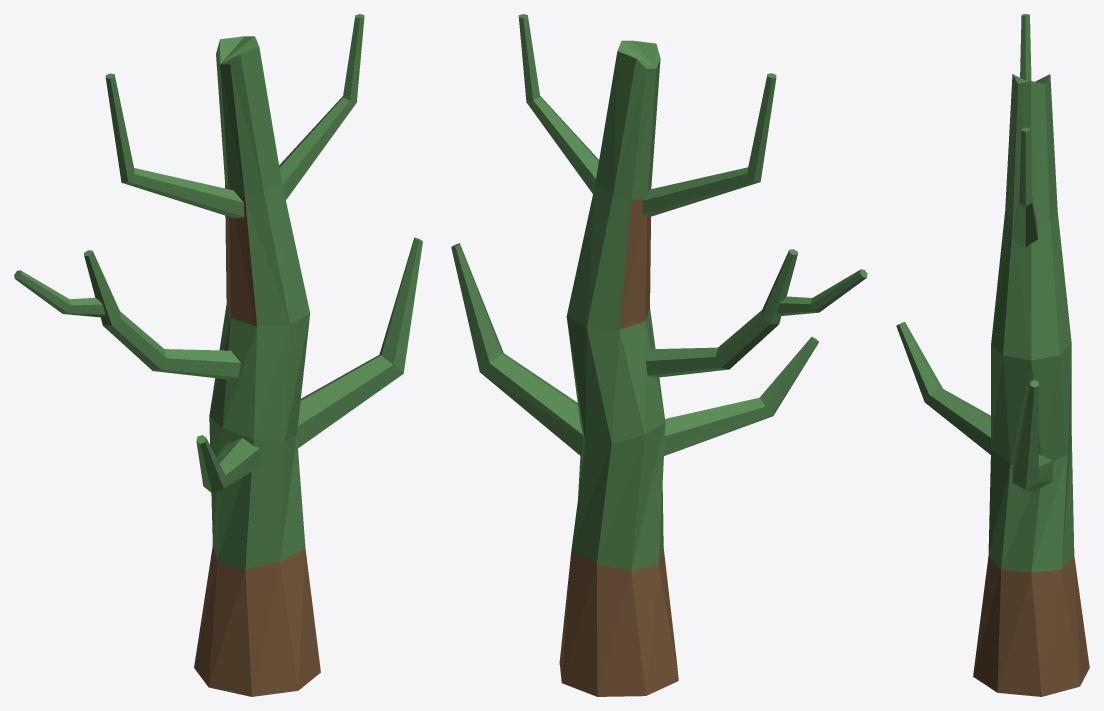
Rendered from tree3d-176.glb.
The picture shows the model from 3 angles, left to right: view 1: azimuth 30°, elevation 25°; view 2: azimuth 150°, elevation 25°; view 3: azimuth 270°, elevation 25°; orthographic projection. The views are drawn at different scales.
Visible parts, largest first — view 1: tree3d-176; view 2: tree3d-176; view 3: tree3d-176.
Boxes of the visible parts, bbox=[...] form: tree3d-176: bbox=[14, 14, 422, 696]; tree3d-176: bbox=[451, 14, 867, 696]; tree3d-176: bbox=[896, 14, 1089, 696].
Size of the model in its own units: 0.6804 by 1 by 0.2973.
